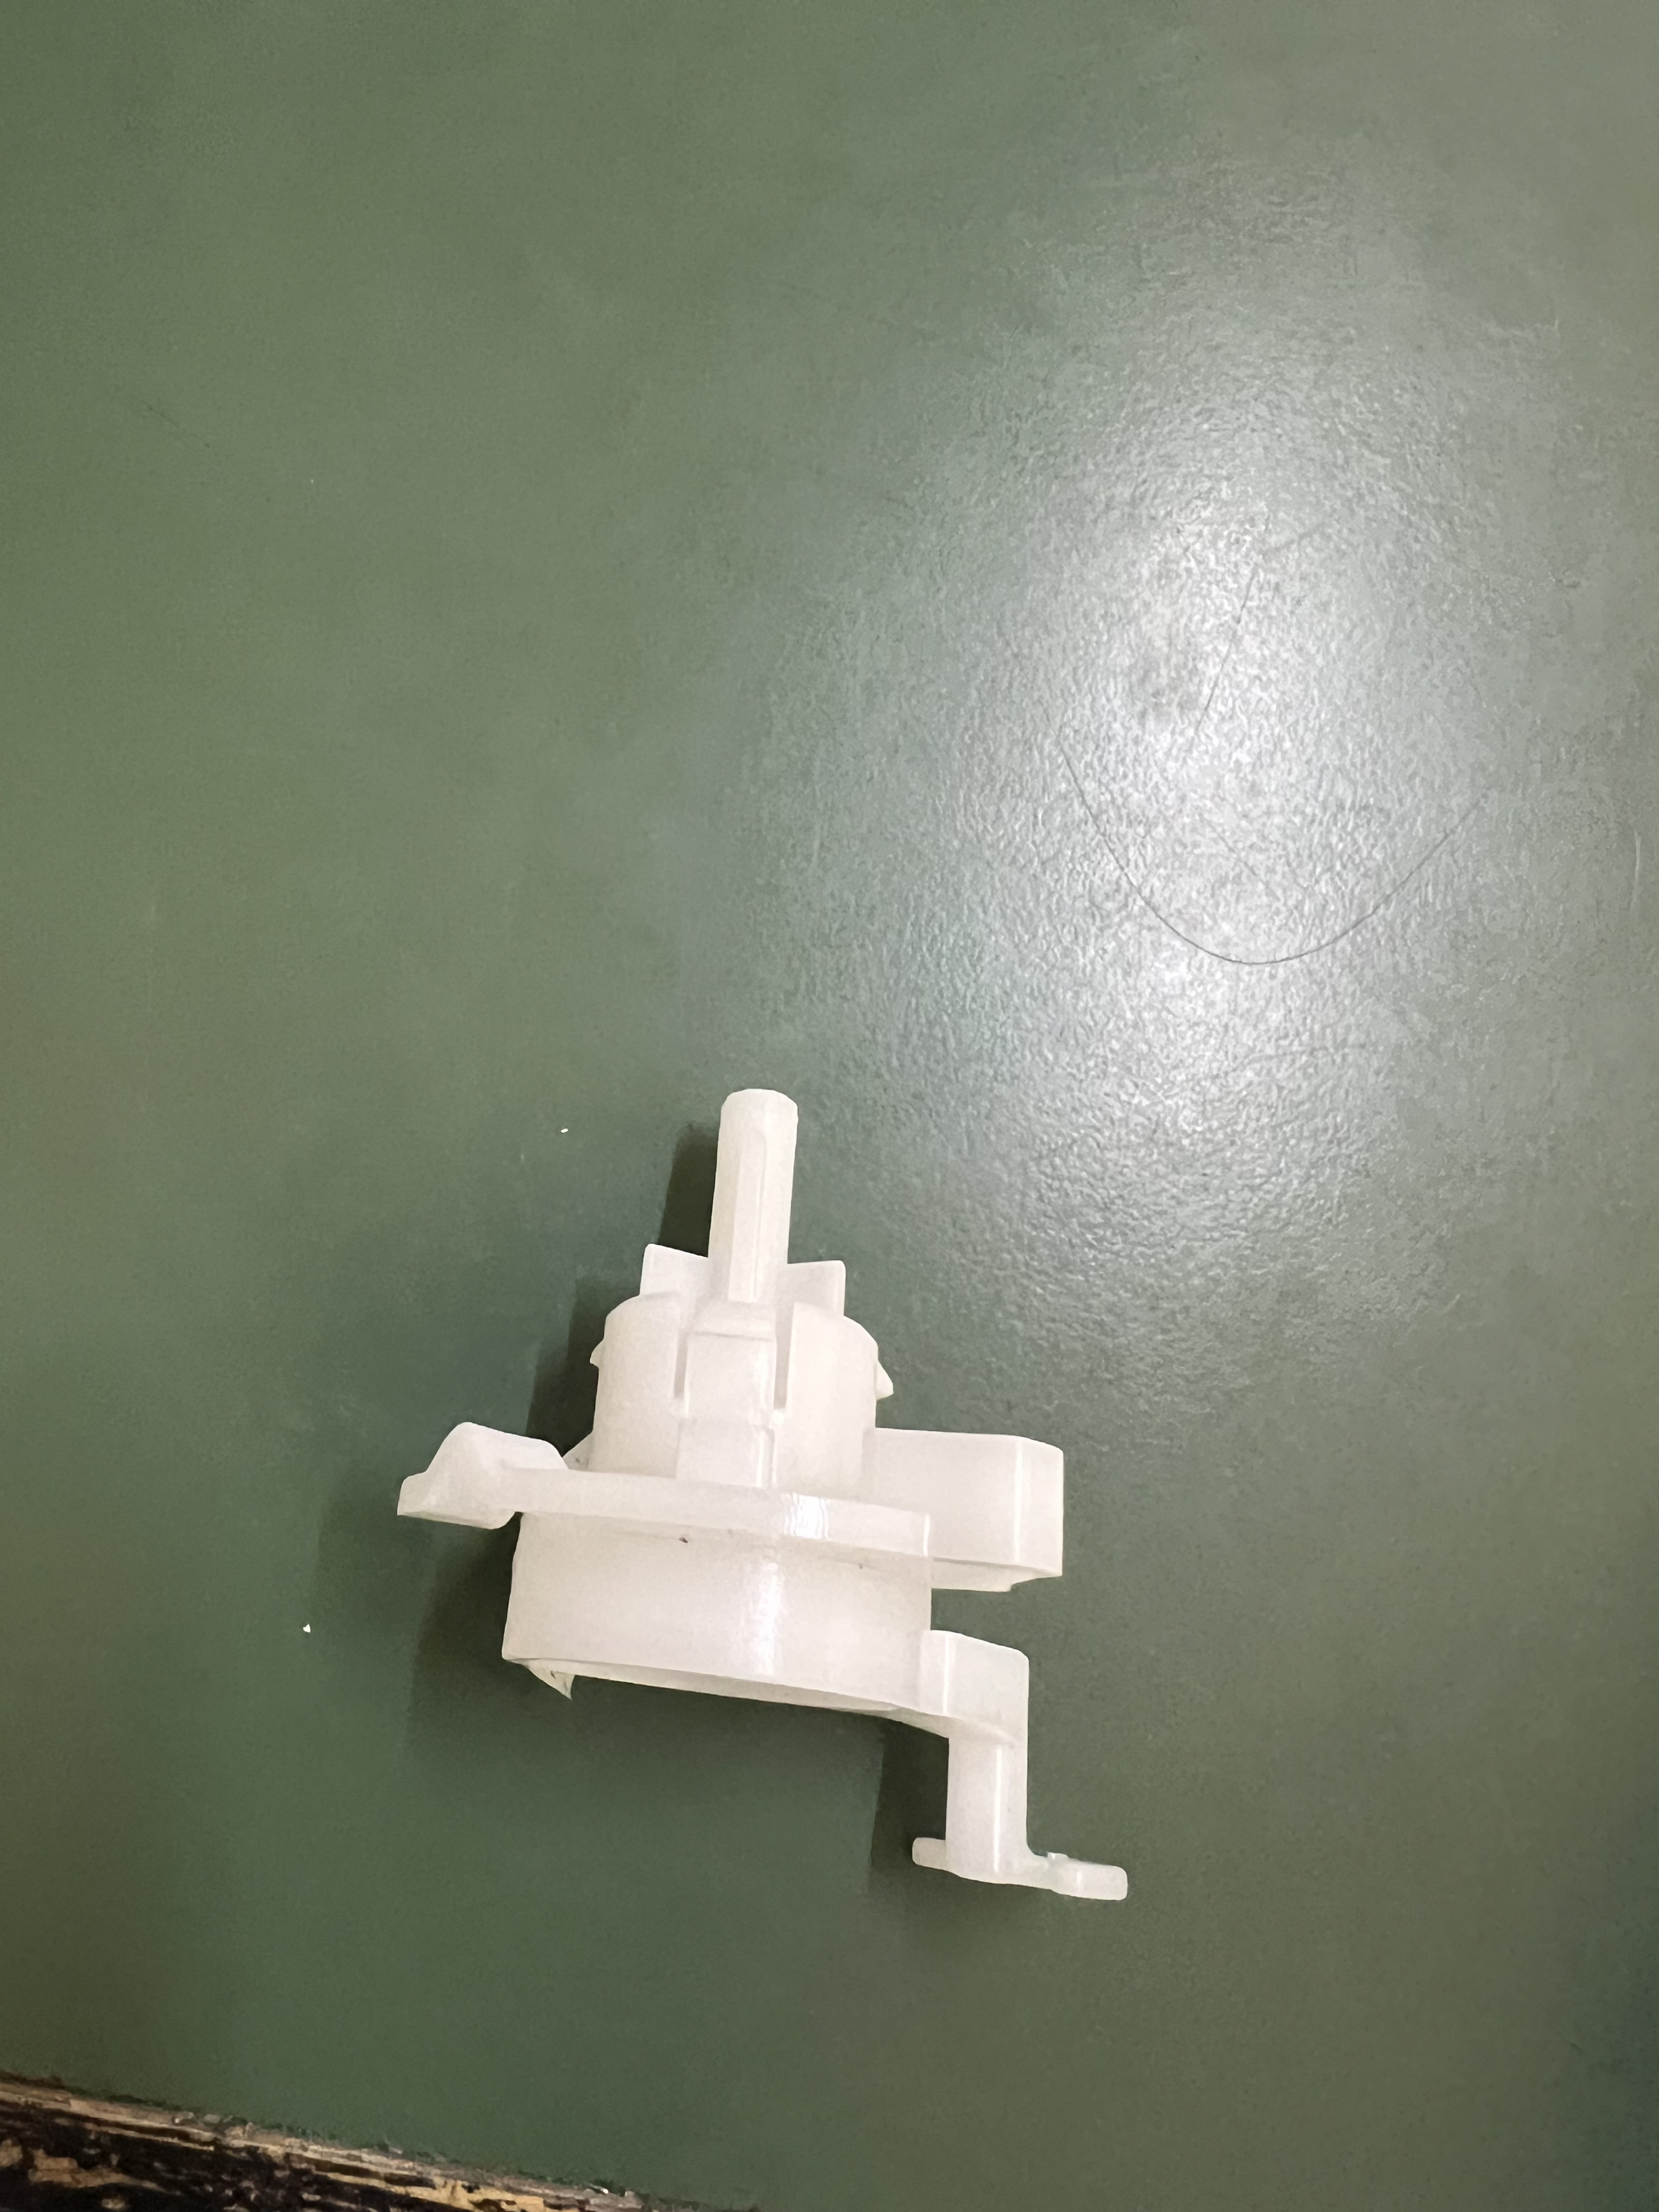drain_lever: (429, 1085, 1159, 1925)
